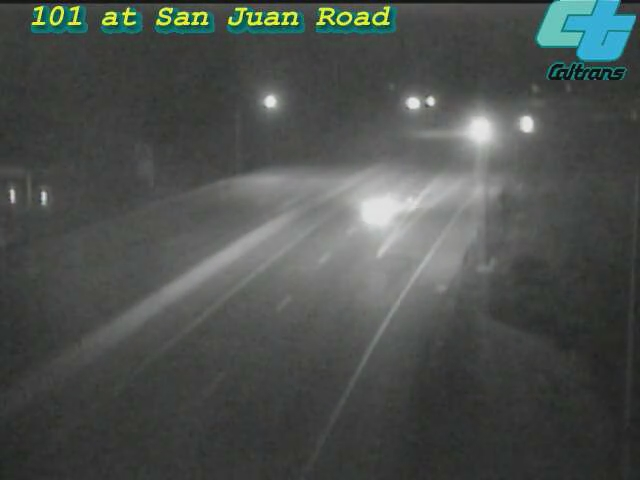vehicle: (341, 166, 421, 246), (453, 104, 503, 154), (496, 100, 546, 150)
